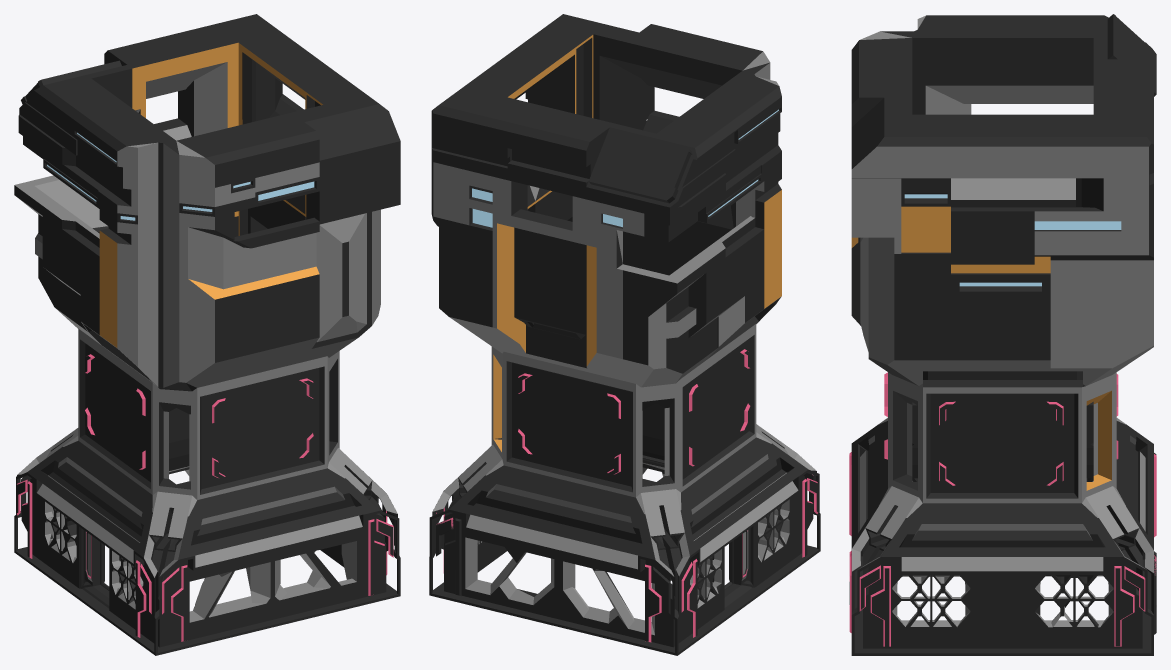
The model's file is 32m_building_02.glb.
The picture shows the model from 3 angles, left to right: view 1: azimuth 30°, elevation 25°; view 2: azimuth 150°, elevation 25°; view 3: azimuth 270°, elevation 25°; orthographic projection. The views are drawn at different scales.
Parts seen in each view (by area): view 1: 32m_building_02, highlight, windows, sign_led; view 2: 32m_building_02, highlight, windows, sign_led; view 3: 32m_building_02, highlight, windows, sign_led.
Boxes of the visible parts, x1,y1,x2,y2 form: 32m_building_02: (14, 14, 400, 655); highlight: (17, 479, 393, 641); windows: (47, 132, 314, 220); sign_led: (85, 354, 313, 477); 32m_building_02: (429, 14, 820, 655); highlight: (436, 478, 817, 642); windows: (472, 109, 778, 227); sign_led: (518, 349, 750, 474); 32m_building_02: (849, 14, 1156, 655); highlight: (849, 452, 1156, 646); windows: (904, 194, 1121, 286); sign_led: (884, 372, 1118, 485).
Size of what is drawn, in the model's own units: 32.57 by 60.52 by 32.54.
2 materials, 2 textured.
